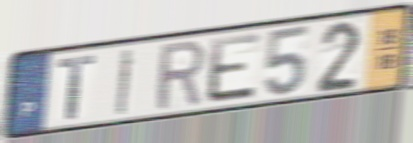2: (316, 17, 363, 95)
5: (264, 23, 313, 99)
E: (205, 30, 263, 106)
I: (114, 46, 137, 118)
R: (154, 37, 207, 114)
T: (56, 52, 97, 122)
